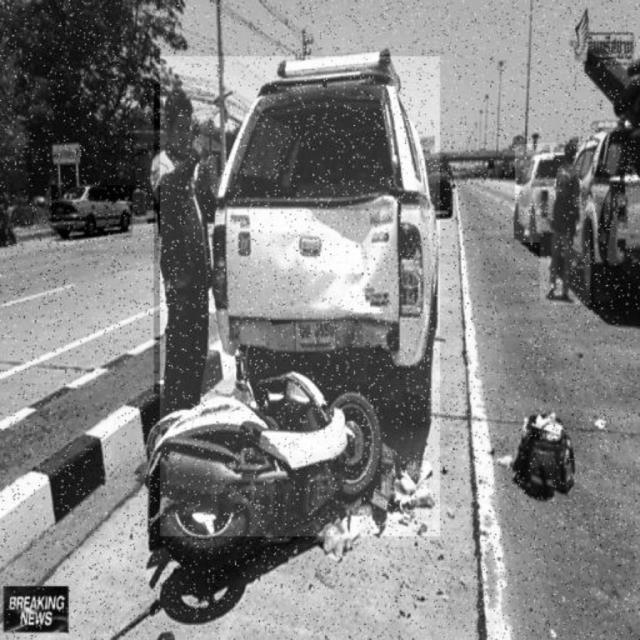accident: (160, 57, 440, 537)
person: (154, 84, 214, 394), (540, 143, 591, 305)
vehicle: (515, 145, 563, 243), (51, 185, 132, 237)
